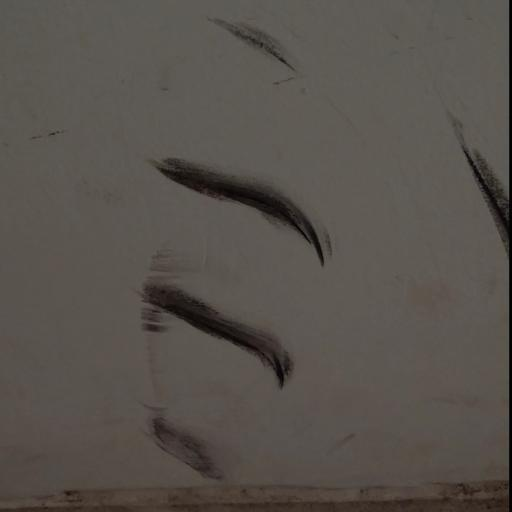stain: (124, 121, 371, 508), (196, 1, 354, 122), (443, 84, 512, 307), (21, 101, 103, 196)
